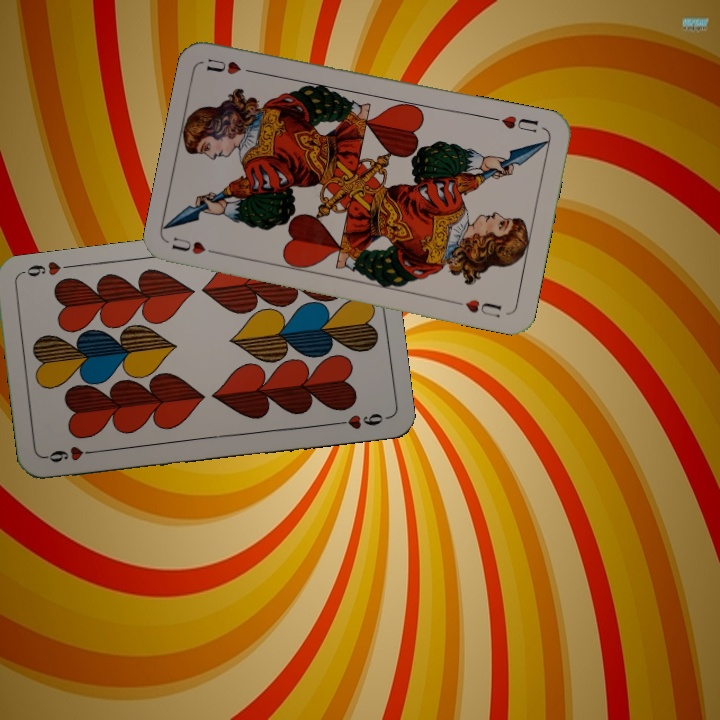H9: (42, 442, 101, 465)
HU: (167, 233, 225, 259), (487, 111, 541, 136)
